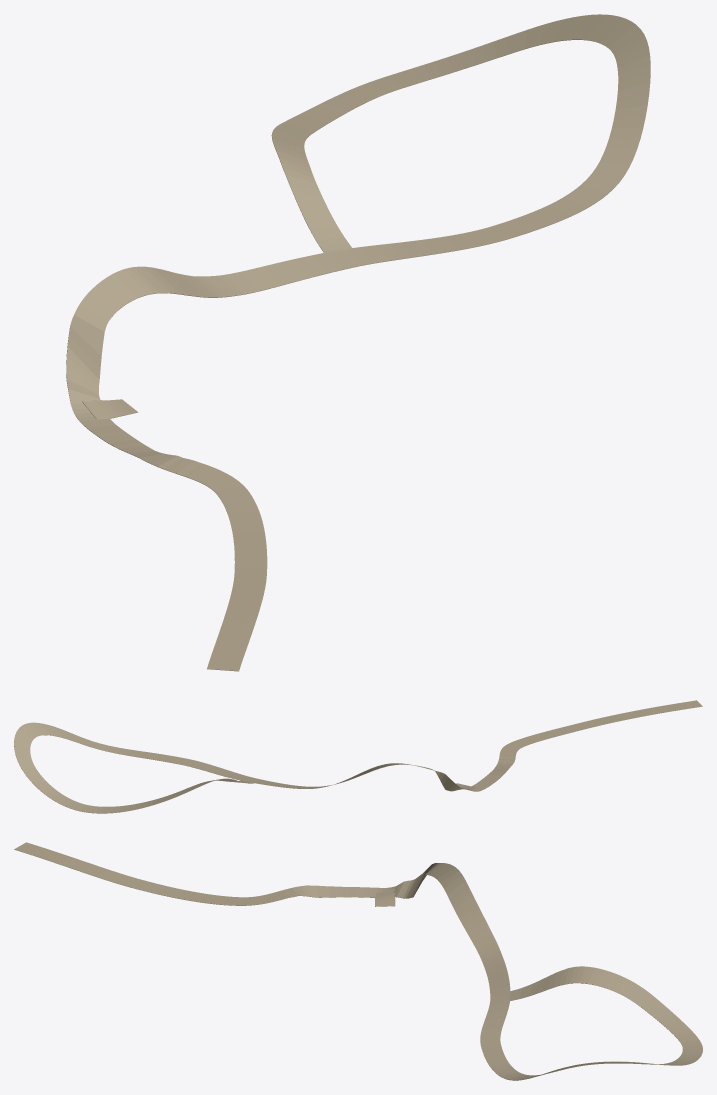
The model's file is SM_Footpath.fbx.
3 renders of one model, top to bottom at view 1: azimuth 30°, elevation 25°; view 2: azimuth 150°, elevation 25°; view 3: azimuth 270°, elevation 25°, orthographic. The views are drawn at different scales.
Visible parts, largest first — view 1: SM_Footpath; view 2: SM_Footpath; view 3: SM_Footpath.
Part boxes in pixels (x1,y1,x2,y2): SM_Footpath: (66,14,650,671); SM_Footpath: (14,700,702,813); SM_Footpath: (14,842,702,1080).
Bounding box in the file's own units: 6700 × 7173 × 625.
